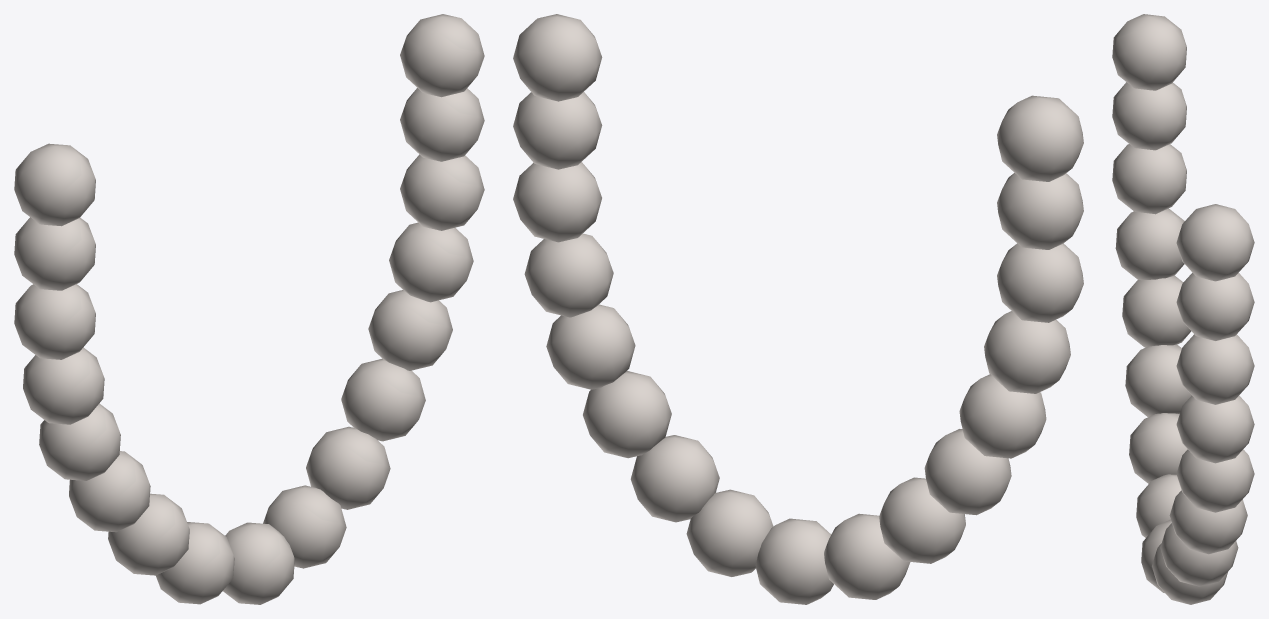
The model's file is amuletPearls1.fbx.
3 renders of one model, left to right at view 1: azimuth 30°, elevation 25°; view 2: azimuth 150°, elevation 25°; view 3: azimuth 270°, elevation 25°, orthographic. The views are drawn at different scales.
Parts seen in each view (by area): view 1: amuletPearls1; view 2: amuletPearls1; view 3: amuletPearls1.
Boxes of the visible parts, <box> form: amuletPearls1: <box>14,14,484,604</box>; amuletPearls1: <box>513,14,1083,604</box>; amuletPearls1: <box>1112,14,1254,604</box>.
Bounding box in the file's own units: 1.92 × 1.92 × 0.5184.
